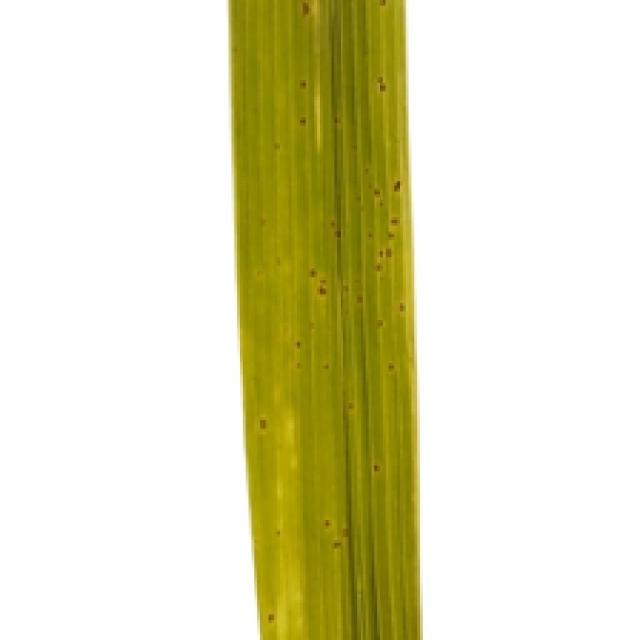Rice___Brown_Spot: (228, 0, 424, 637)
